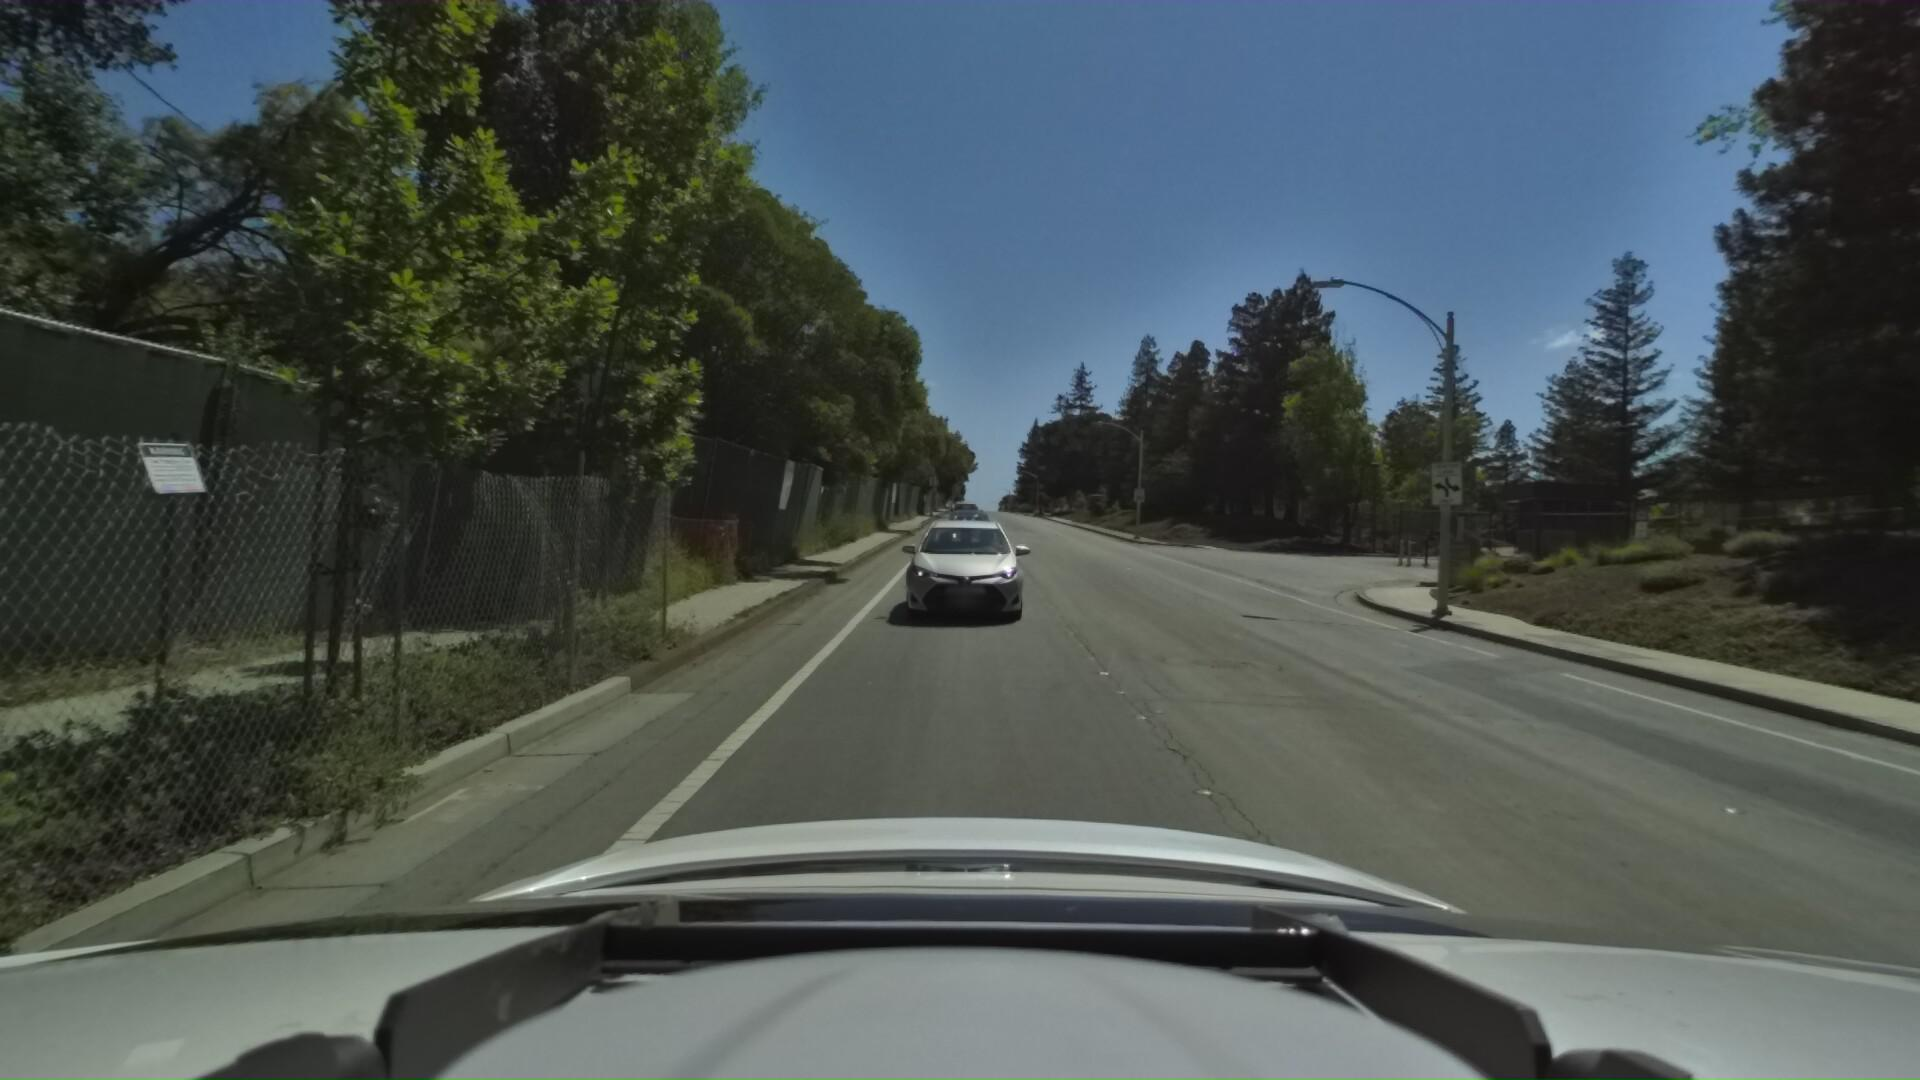car: (890, 498, 1029, 624), (943, 498, 1000, 551), (945, 493, 981, 530)
